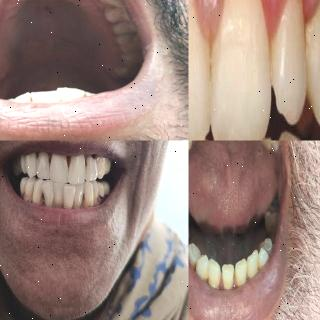calculus: (46, 198, 75, 208)
cavities: (82, 150, 100, 173), (118, 27, 142, 39), (38, 190, 50, 210), (80, 192, 90, 206)
maligned: (61, 181, 78, 210)
stains: (100, 4, 123, 20), (254, 256, 266, 274), (202, 268, 213, 286), (64, 156, 74, 174)
